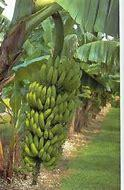banana: (21, 58, 78, 171), (15, 59, 78, 114), (18, 115, 75, 167)
